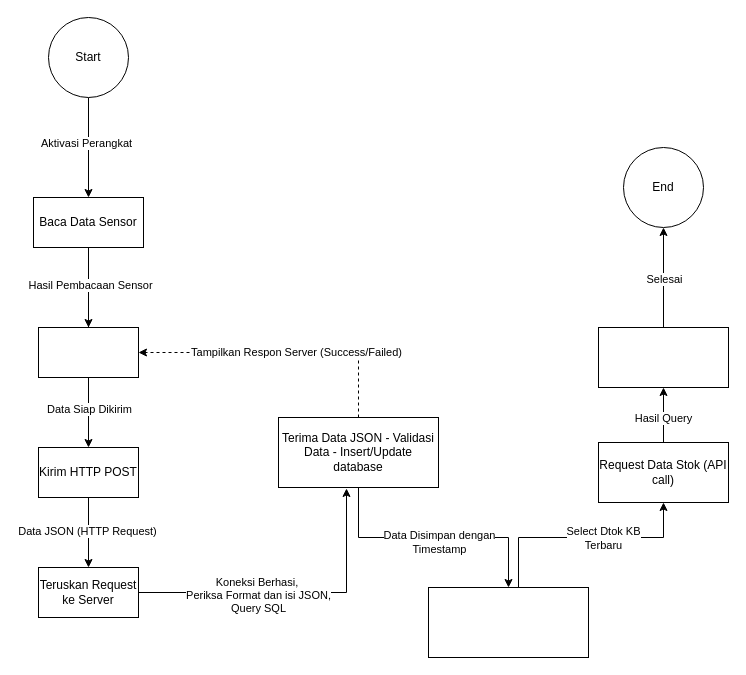
The diagram is 746 pixels wide and 675 high, and some of its shapes have lost their labels. Here are the shapes that lost their labels. From the top down, the box of each, then its label:
(38, 326, 138, 378): Format data JSON
(598, 326, 728, 388): Tampilkan Data Real Time
(428, 586, 588, 658): Simpan Data Stok KB
